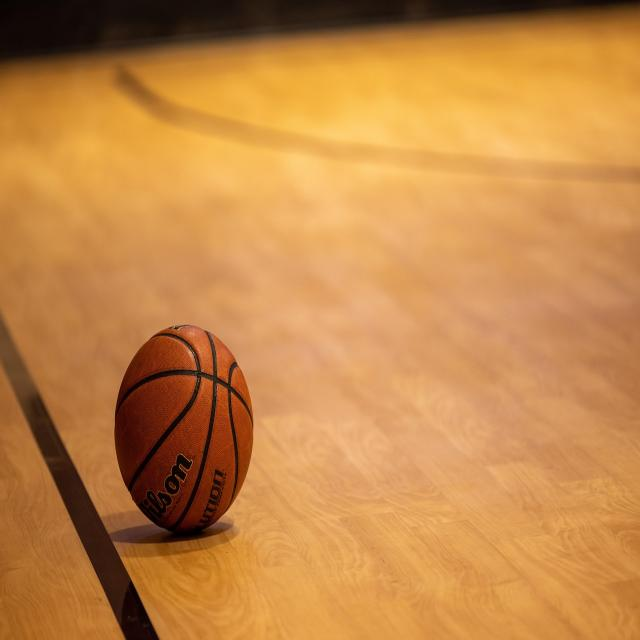Basketball: (114, 320, 255, 536)
